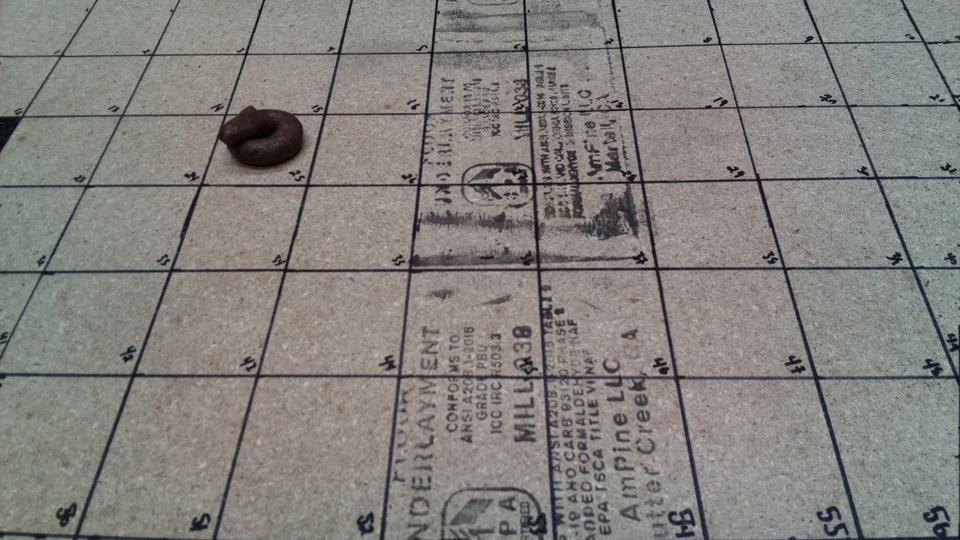poop: (212, 265, 319, 361), (120, 104, 196, 175), (257, 20, 337, 84)
